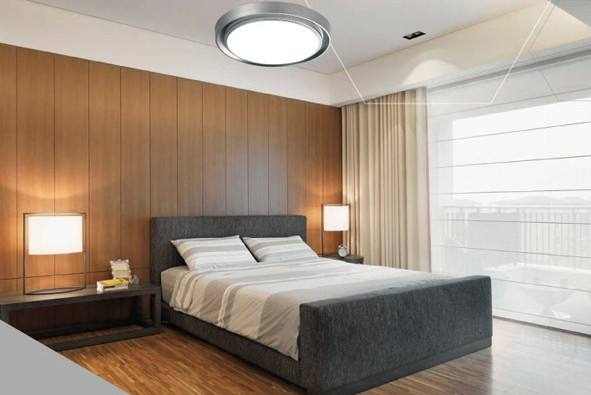床: (167, 248, 477, 384)
枕头: (174, 233, 314, 275)
灯: (209, 8, 331, 69), (23, 212, 83, 294), (318, 203, 348, 258), (402, 30, 425, 40)
